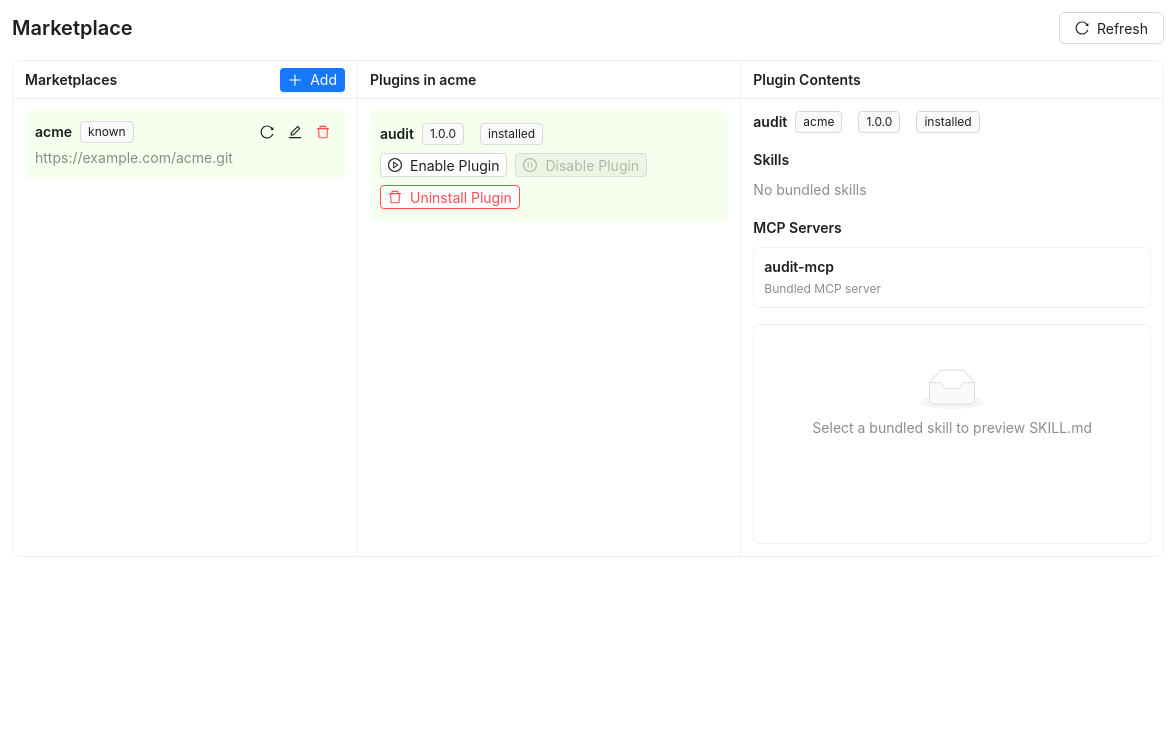
it: MarketplaceTab › keeps one plugin enable pending while the global runtime input bridge owns prompting
Click the button "Enable Plugin" at (444, 165), box 380,153 -> 508,177
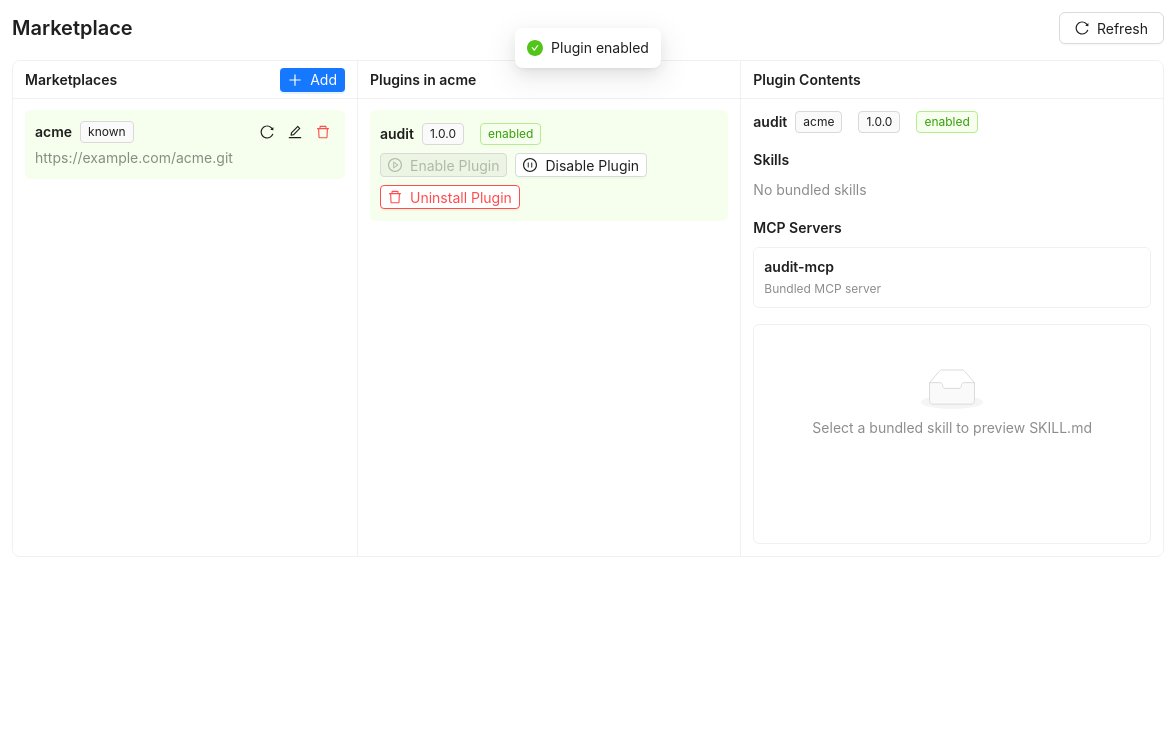
Check: the 2nd text "enabled" is shown, box 480,123 -> 541,145
